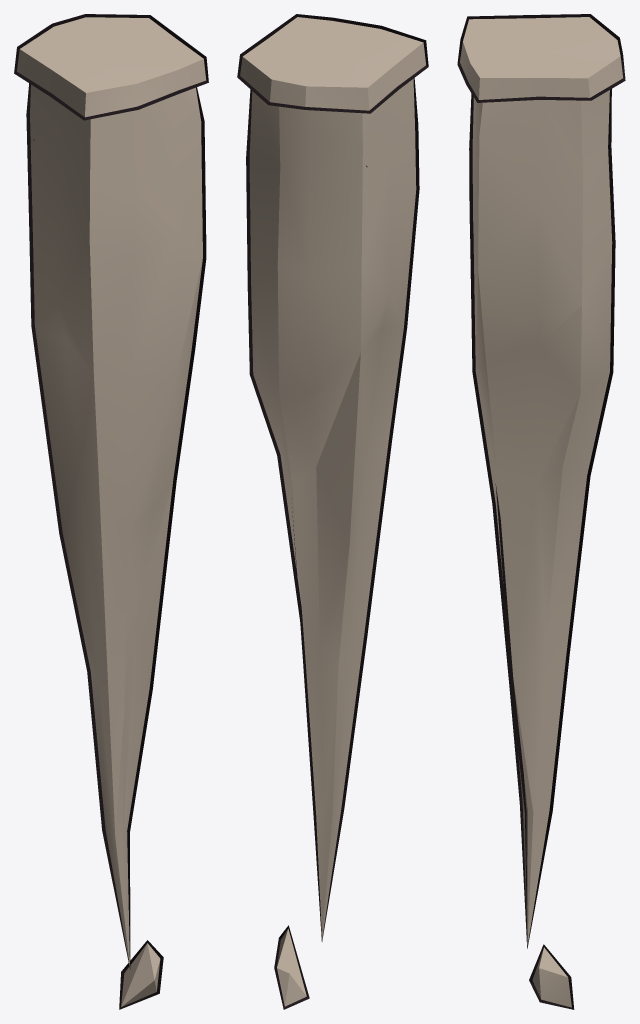
The model's file is SM_Trail_Node_01.fbx.
3 renders of one model, left to right at view 1: azimuth 30°, elevation 25°; view 2: azimuth 150°, elevation 25°; view 3: azimuth 270°, elevation 25°, orthographic. The views are drawn at different scales.
Visible parts, largest first — view 1: SM_Trail_Node_01; view 2: SM_Trail_Node_01; view 3: SM_Trail_Node_01.
Boxes of the visible parts, left/top/right/bottom form: SM_Trail_Node_01: left=14, top=14, right=208, bottom=1009; SM_Trail_Node_01: left=237, top=14, right=428, bottom=1009; SM_Trail_Node_01: left=457, top=14, right=625, bottom=1009.
Bounding box in the file's own units: 6.34 × 42.66 × 6.83.
